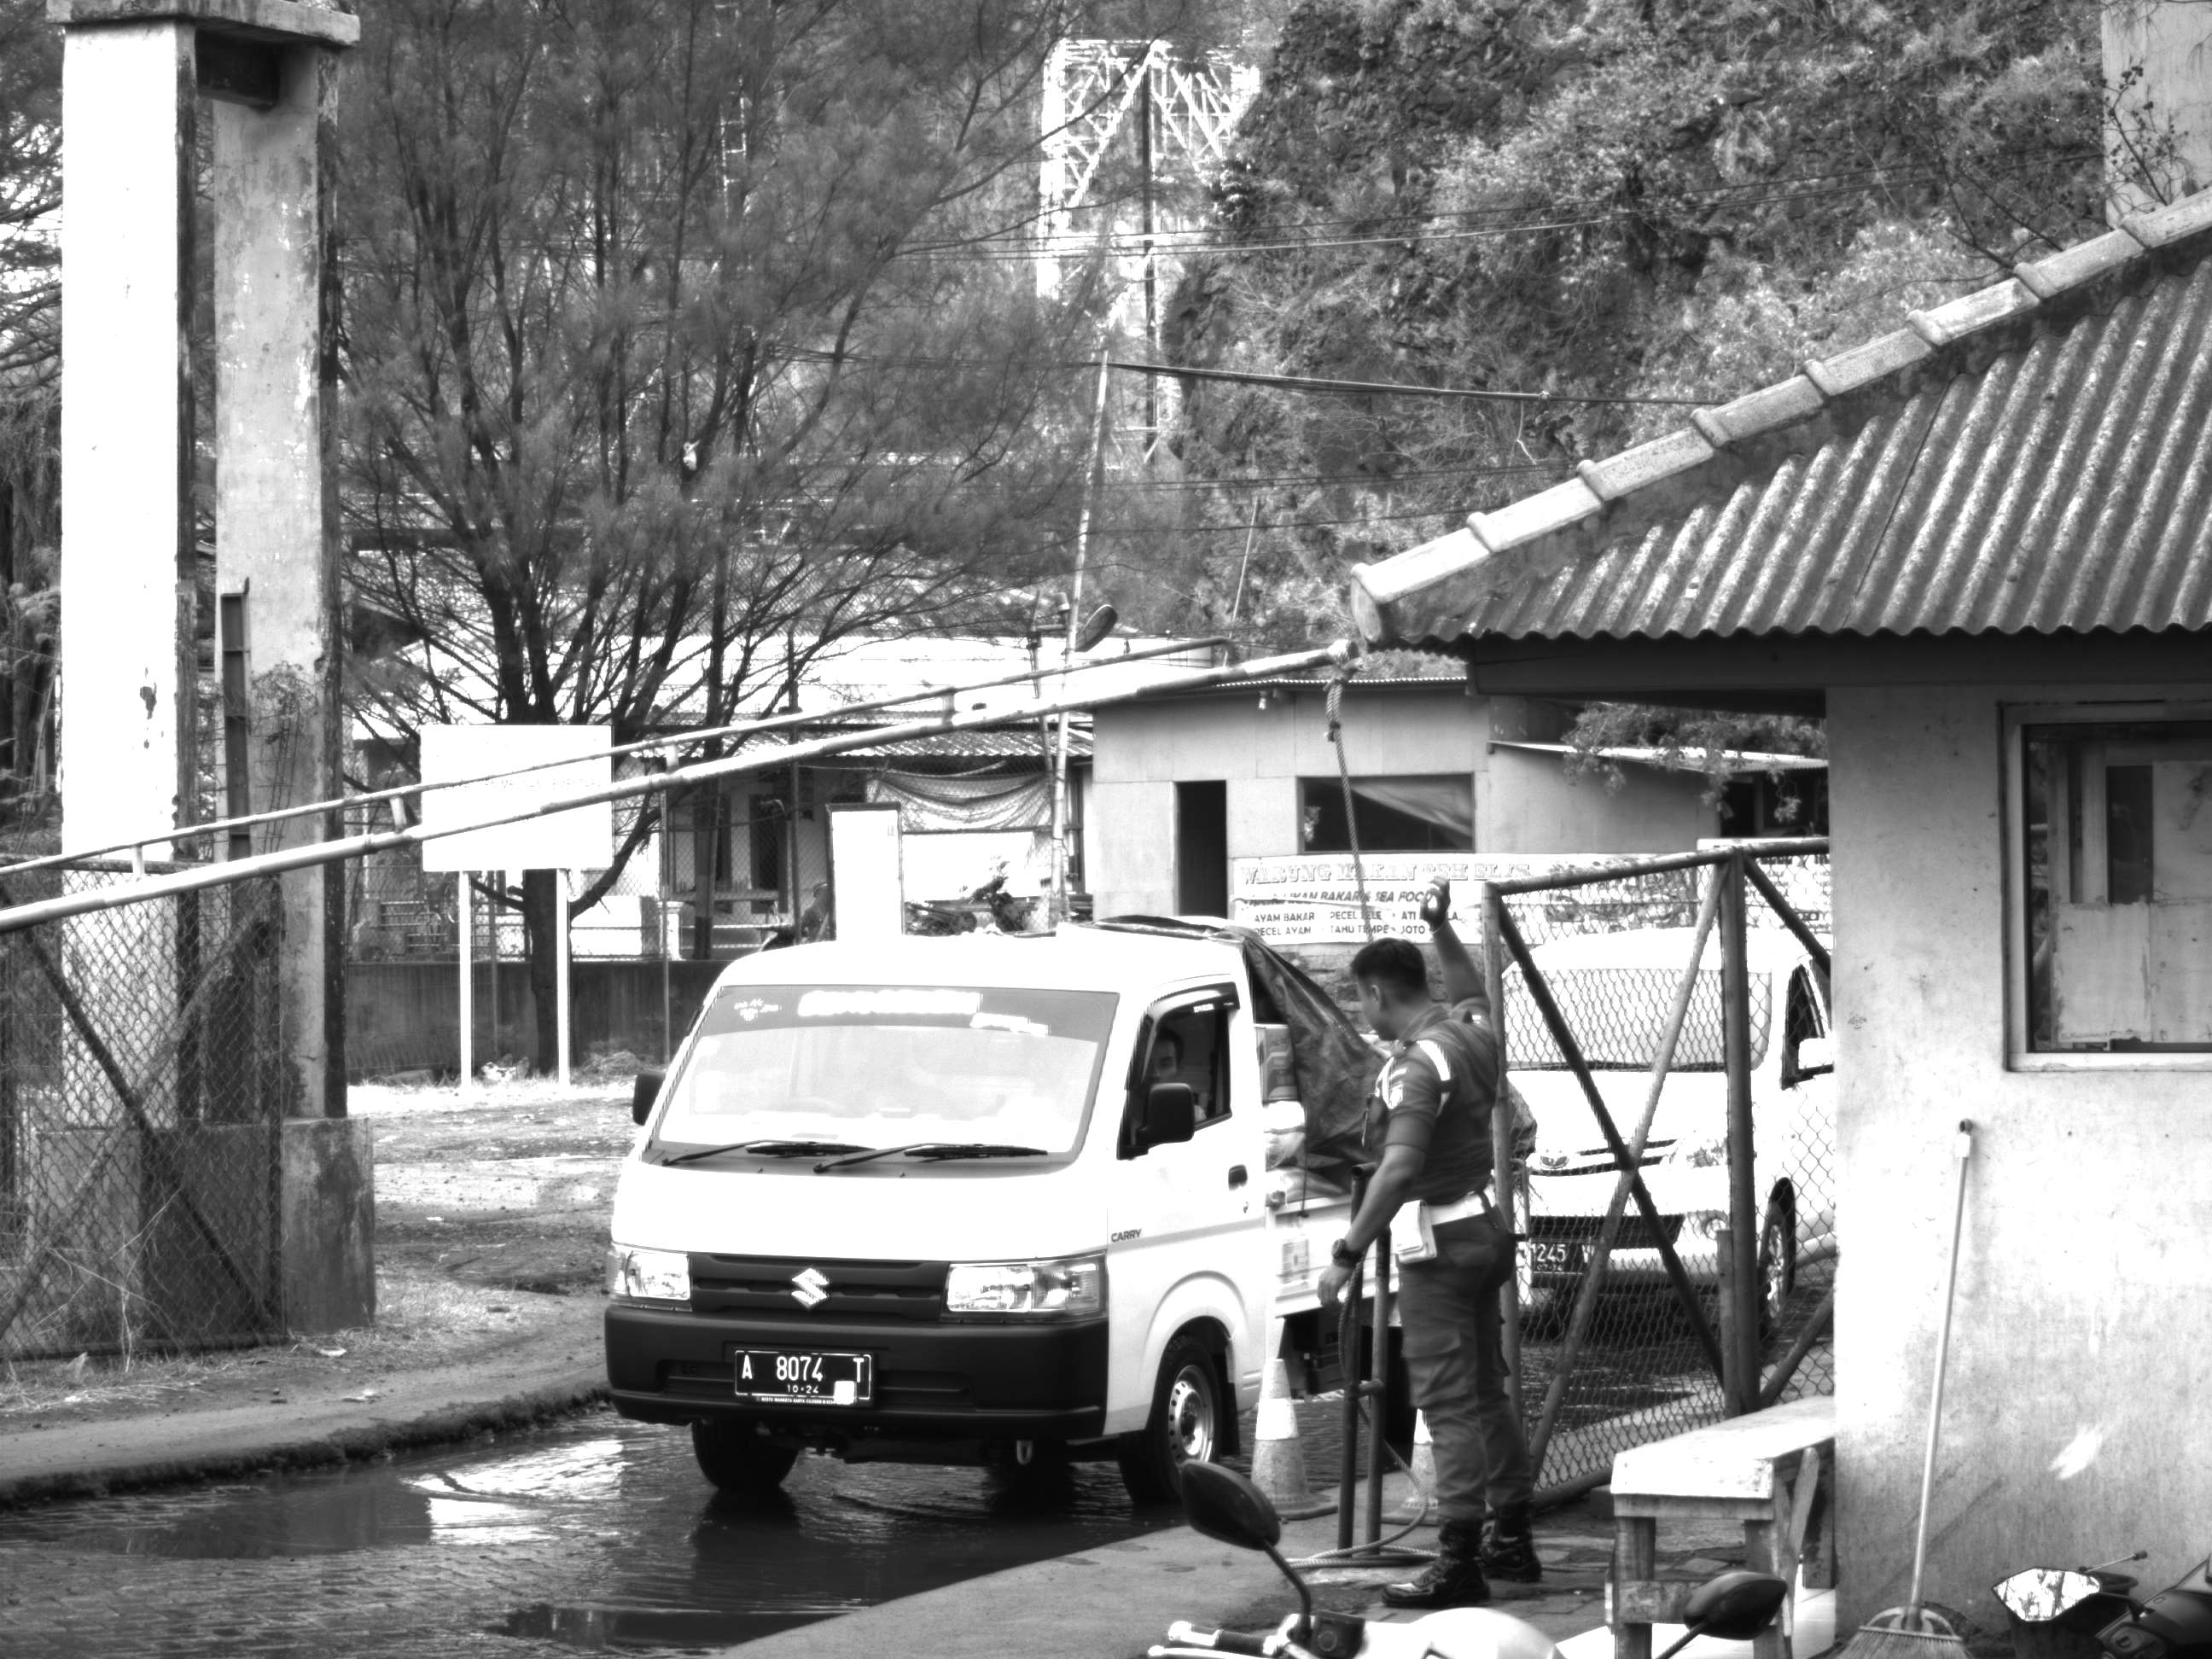day_small_truct_front: (597, 893, 1552, 1540)
plate: (728, 1346, 877, 1410)
